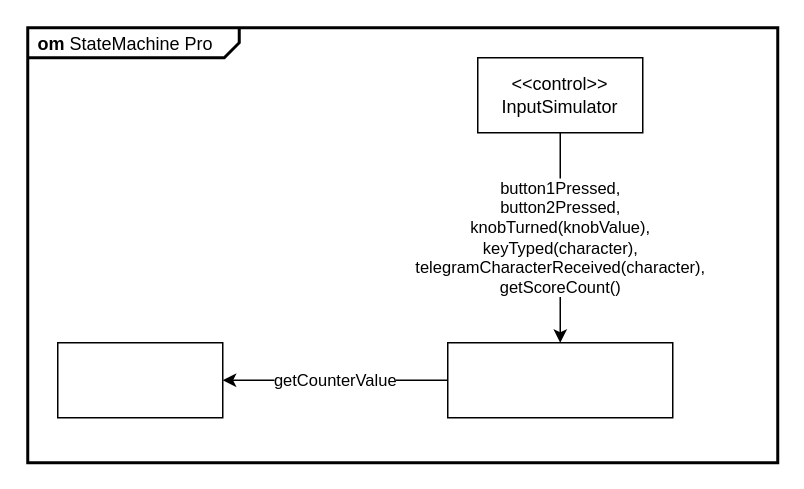
Some shapes in this 804 by 489 pixel diagram are drawn without their labels. The shapes that lost their labels are listed below. From the top down, each one's centre as x and y in pixels, then its label:
point (139, 379): <<control>> Counter
point (559, 379): <<control>> MachineControl
